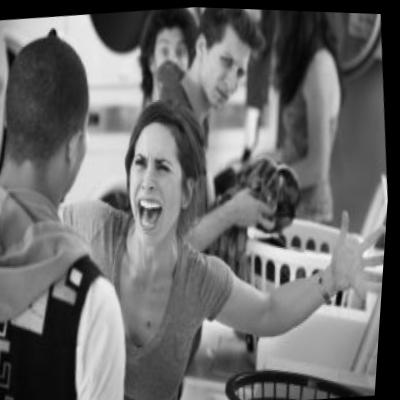angry: (126, 127, 193, 236)
netural: (202, 22, 248, 108)
